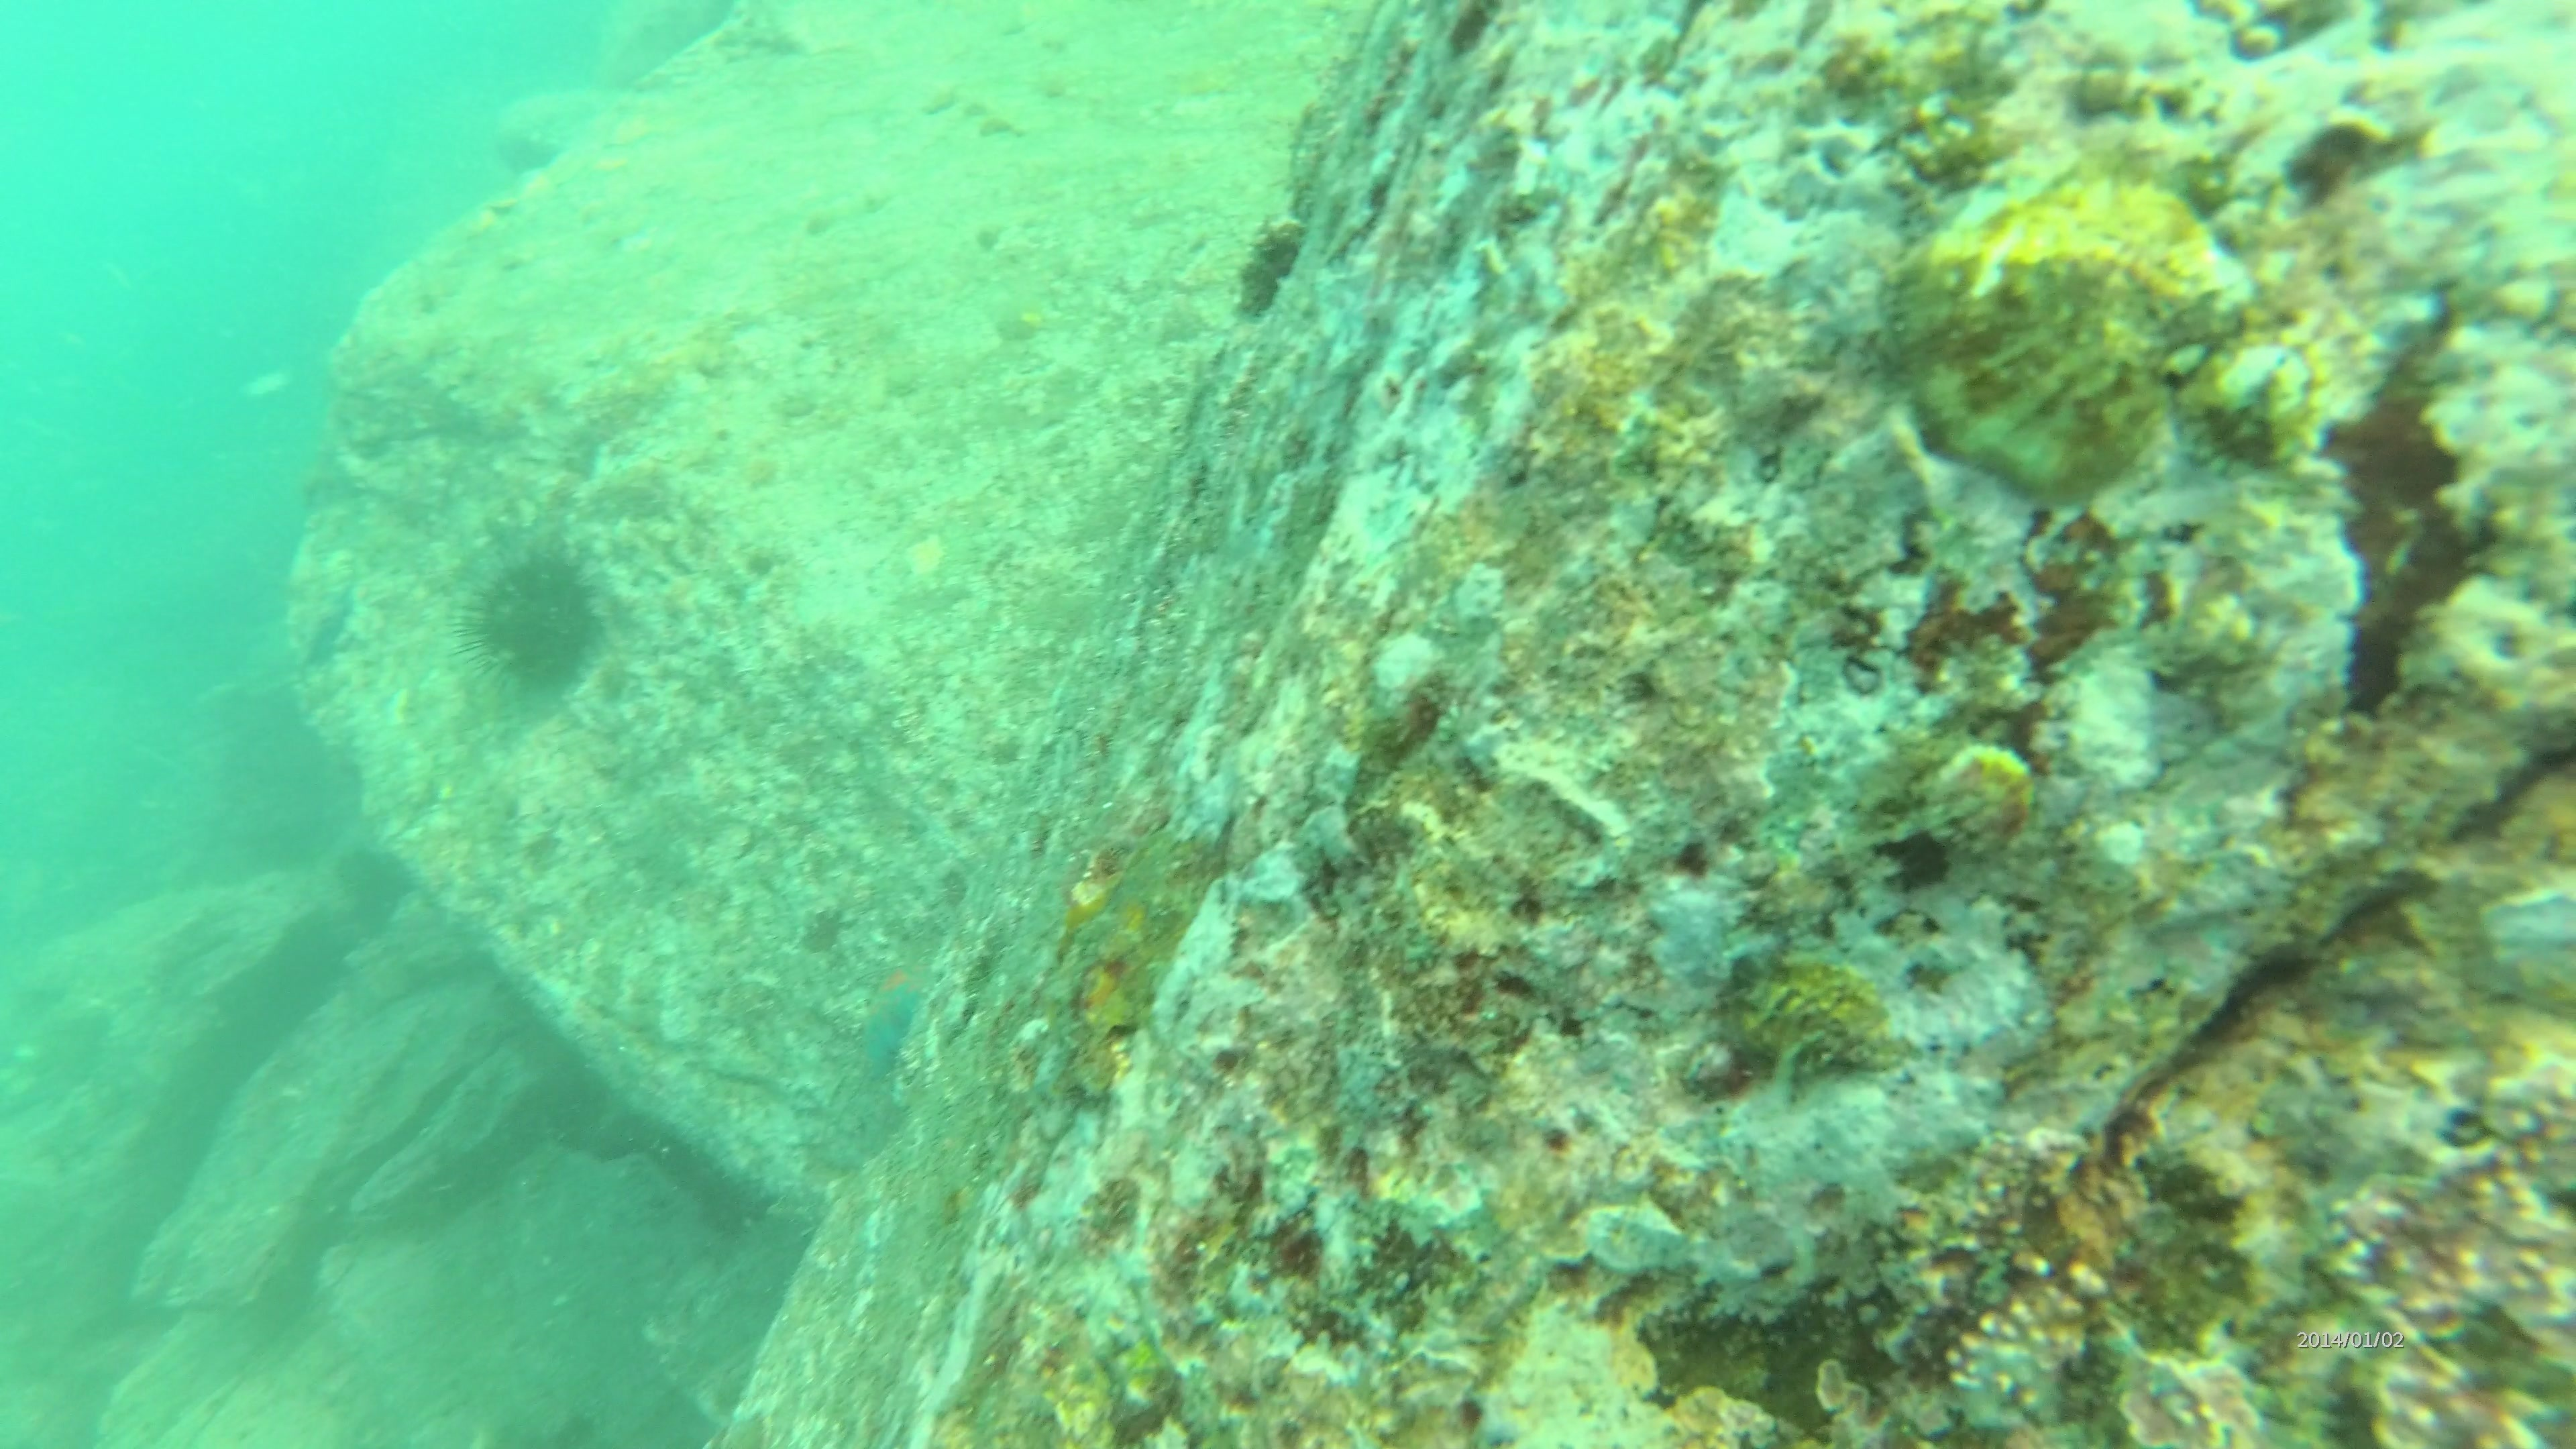echinus: (449, 531, 617, 702), (329, 835, 421, 936)
starfish: (844, 932, 943, 1090)
